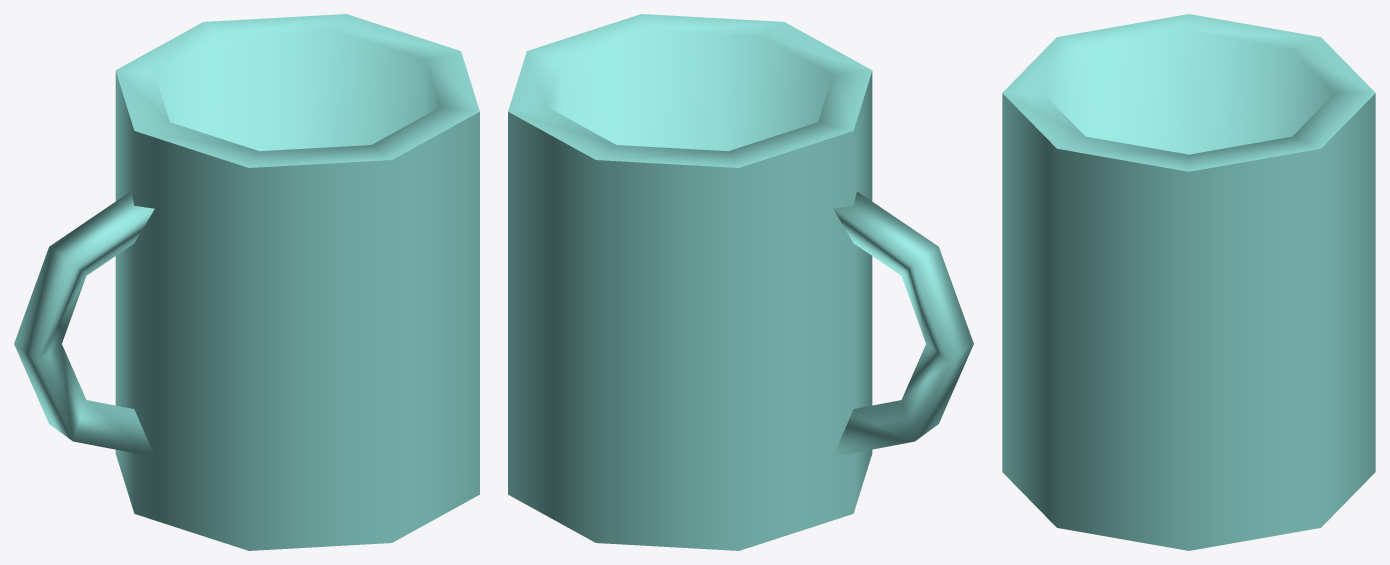
The model's file is Mug_Collision.fbx.
3 views of the same model, side by side, from view 1: azimuth 30°, elevation 25°; view 2: azimuth 150°, elevation 25°; view 3: azimuth 270°, elevation 25° (orthographic).
Parts seen in each view (by area): view 1: Mug_Collision; view 2: Mug_Collision; view 3: Mug_Collision.
Boxes of the visible parts, bbox=[...] form: Mug_Collision: bbox=[14, 14, 479, 550]; Mug_Collision: bbox=[508, 14, 973, 550]; Mug_Collision: bbox=[1002, 14, 1375, 550].
Size of the model in its own units: 0.1142 by 0.096 by 0.0857.
